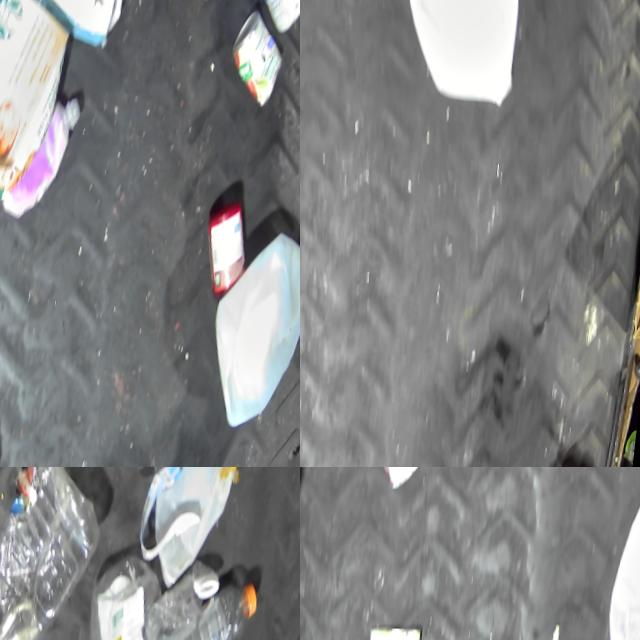can: (226, 14, 289, 115), (141, 467, 195, 501)
milk_jug: (393, 0, 538, 120), (155, 467, 260, 593), (610, 467, 640, 640)
plastic_bottle: (0, 467, 120, 640), (91, 554, 180, 640), (153, 562, 235, 640), (168, 584, 274, 640)
